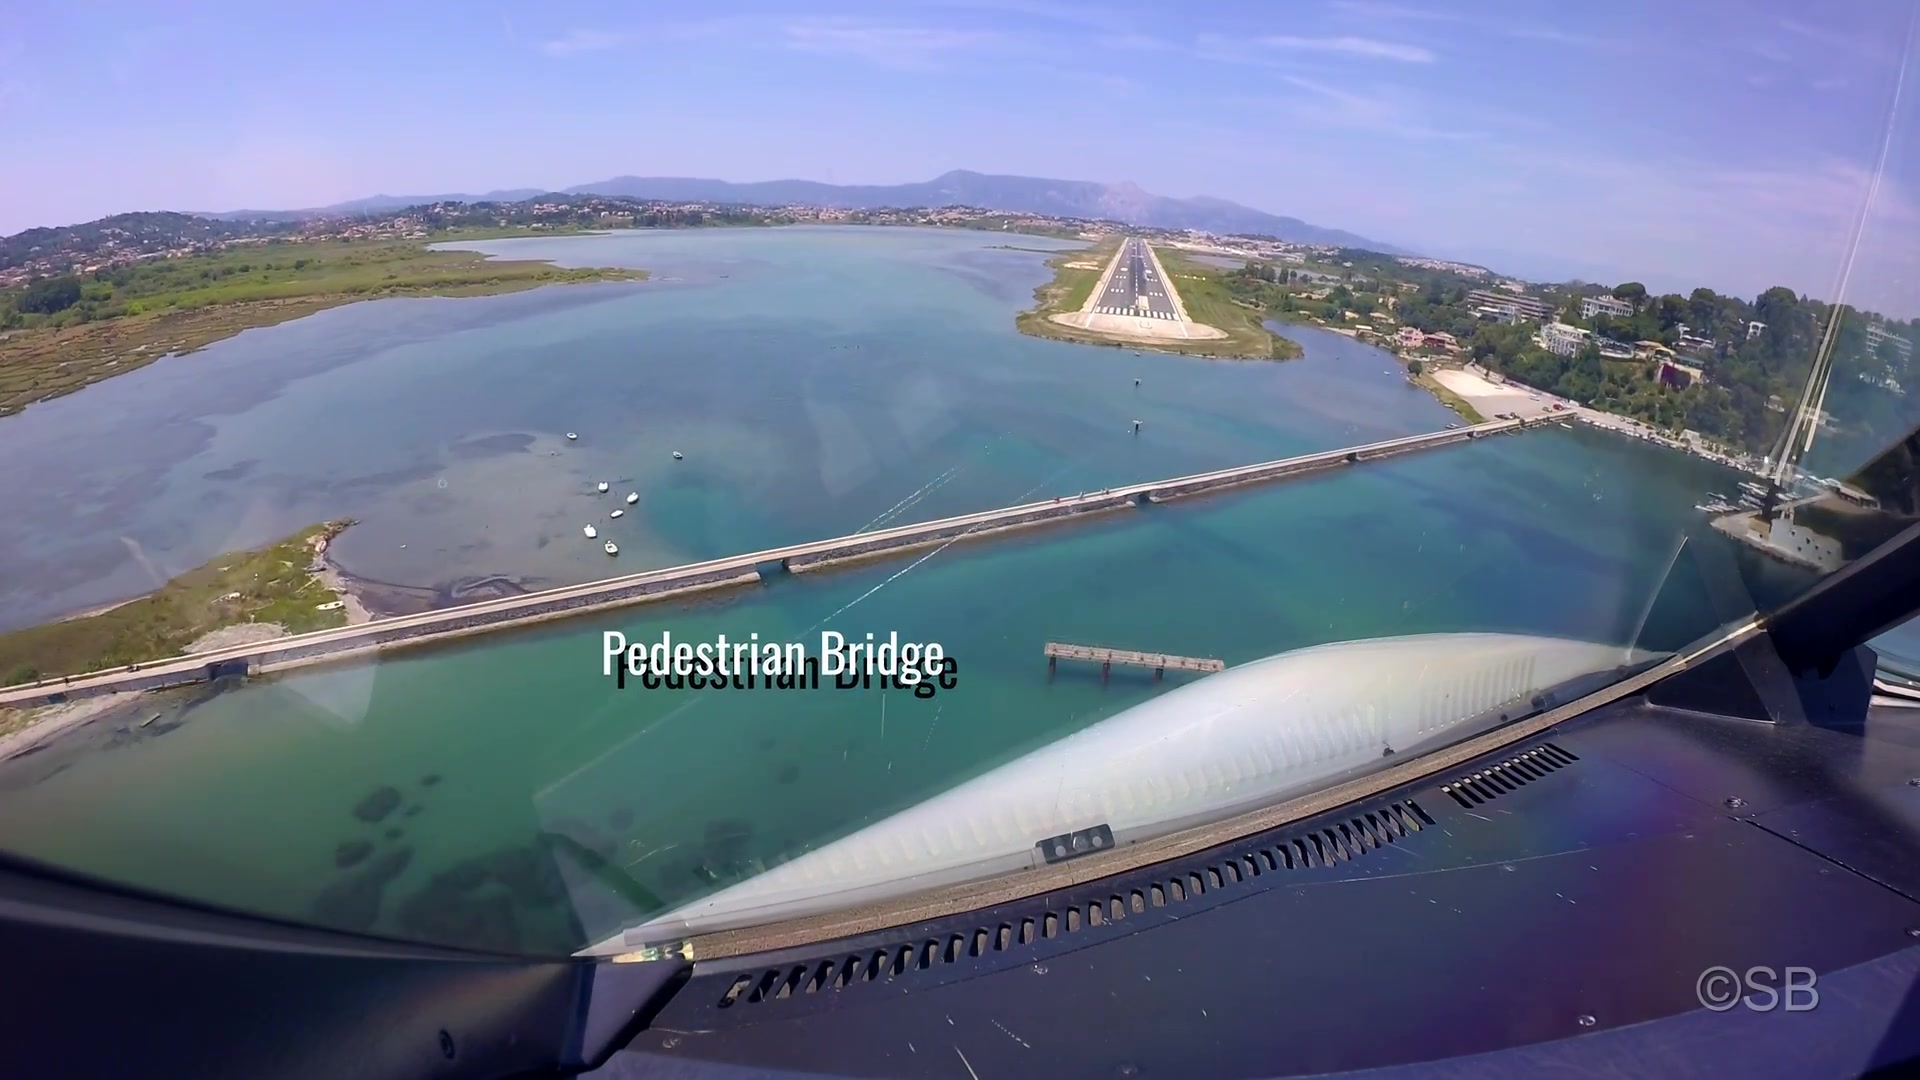entrance: (1091, 305, 1180, 320)
runway: (1087, 235, 1183, 324)
